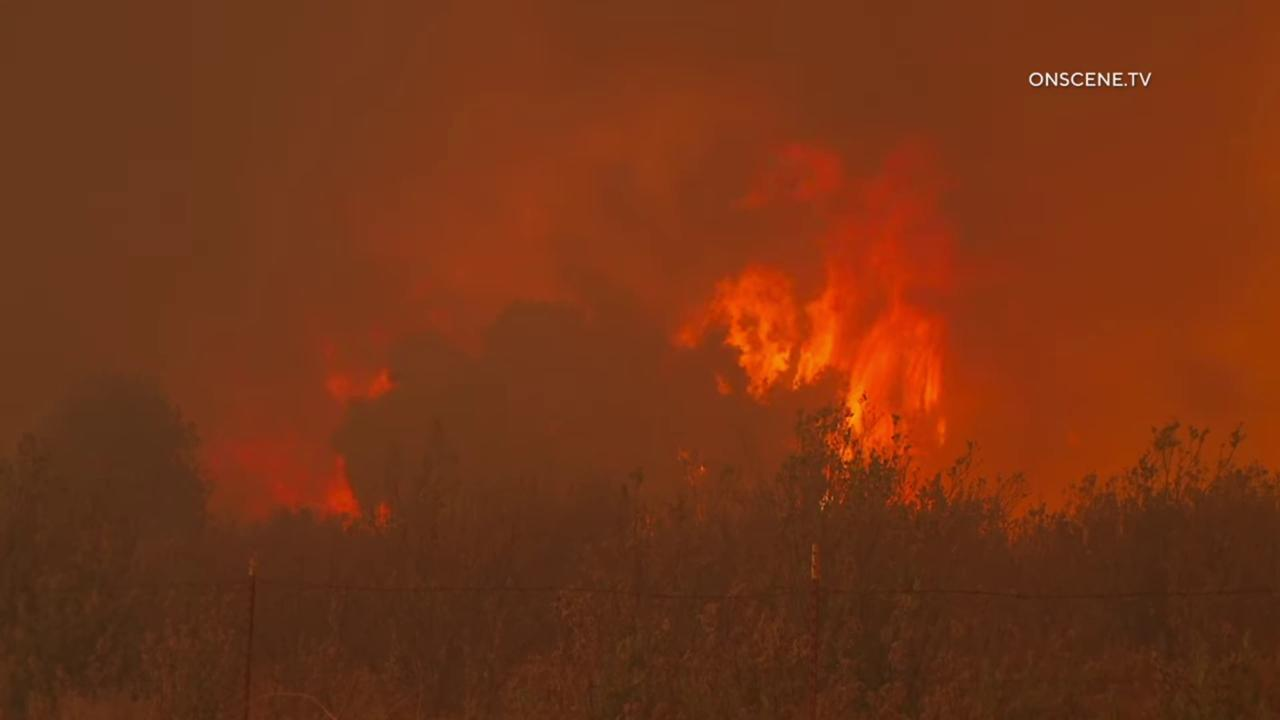fire: (667, 119, 954, 513), (179, 432, 393, 540), (312, 342, 405, 407)
smoke: (0, 0, 1280, 720)
